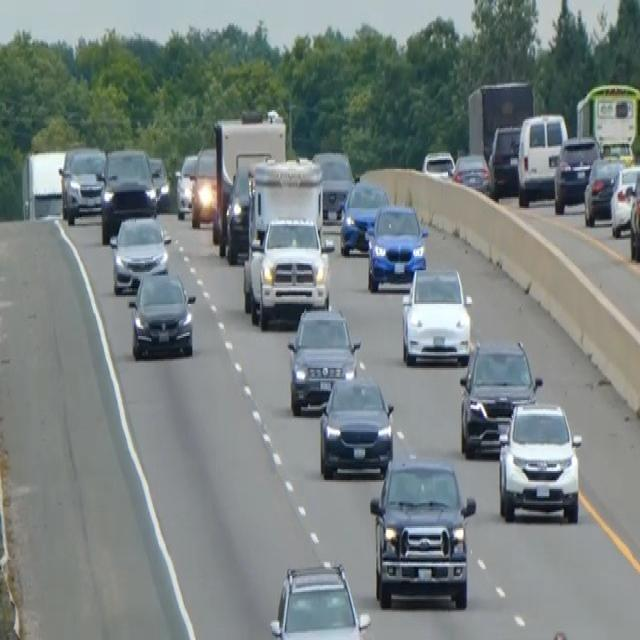bus: (574, 80, 639, 164)
car: (497, 398, 582, 523), (458, 336, 542, 457), (318, 368, 394, 478), (286, 304, 361, 414), (268, 558, 371, 638), (400, 263, 472, 366), (127, 267, 196, 361), (224, 150, 275, 262), (366, 201, 428, 291), (100, 146, 158, 242), (109, 212, 170, 294), (516, 110, 567, 206), (339, 178, 389, 256), (553, 134, 600, 214), (58, 144, 106, 222), (311, 148, 355, 222), (583, 153, 623, 226), (224, 164, 253, 262), (488, 122, 521, 194), (190, 144, 218, 228), (609, 160, 639, 236), (451, 150, 491, 196), (175, 151, 198, 219), (147, 153, 170, 208), (421, 148, 455, 180), (628, 164, 639, 262)
jeep: (368, 453, 477, 610)
truck: (241, 155, 332, 327)
